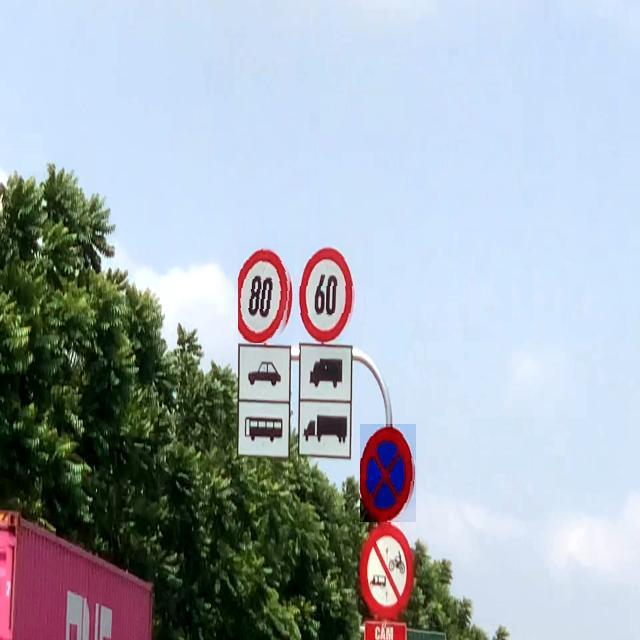P-127: (299, 245, 356, 345), (238, 244, 294, 343)
P-130: (360, 424, 416, 522)
